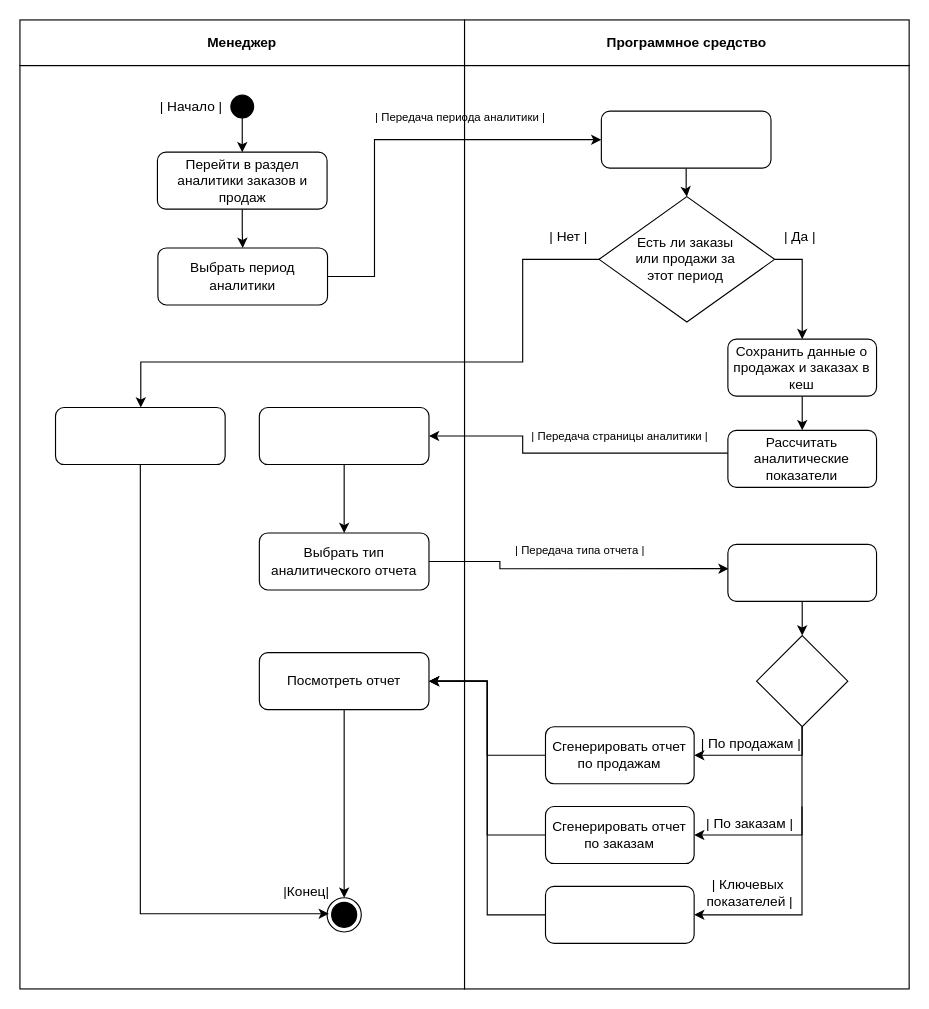
Some shapes in this 929 by 1009 pixel diagram are drawn without their labels. Each missing label, with the centre of its shape:
Загрузить данные о продажах и заказах: [685,139]
Загрузка данных о продажах и заказах из кеша: [802,572]
Посмотреть аналитику заказов и продаж: [343,435]
Сгенерировать отчет ключевых показателей: [619,914]
Сообщение об отсутствии заказов или продаж за выбранный период: [139,435]
Тип отчета: [801,680]
